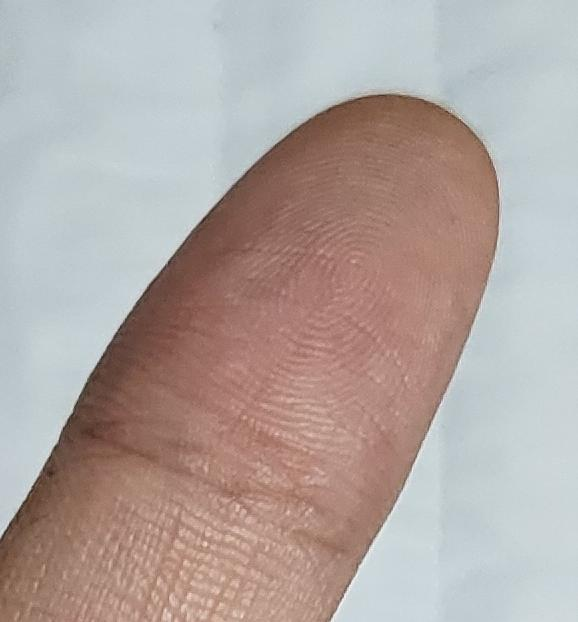Fingerprints: (68, 94, 500, 548)
